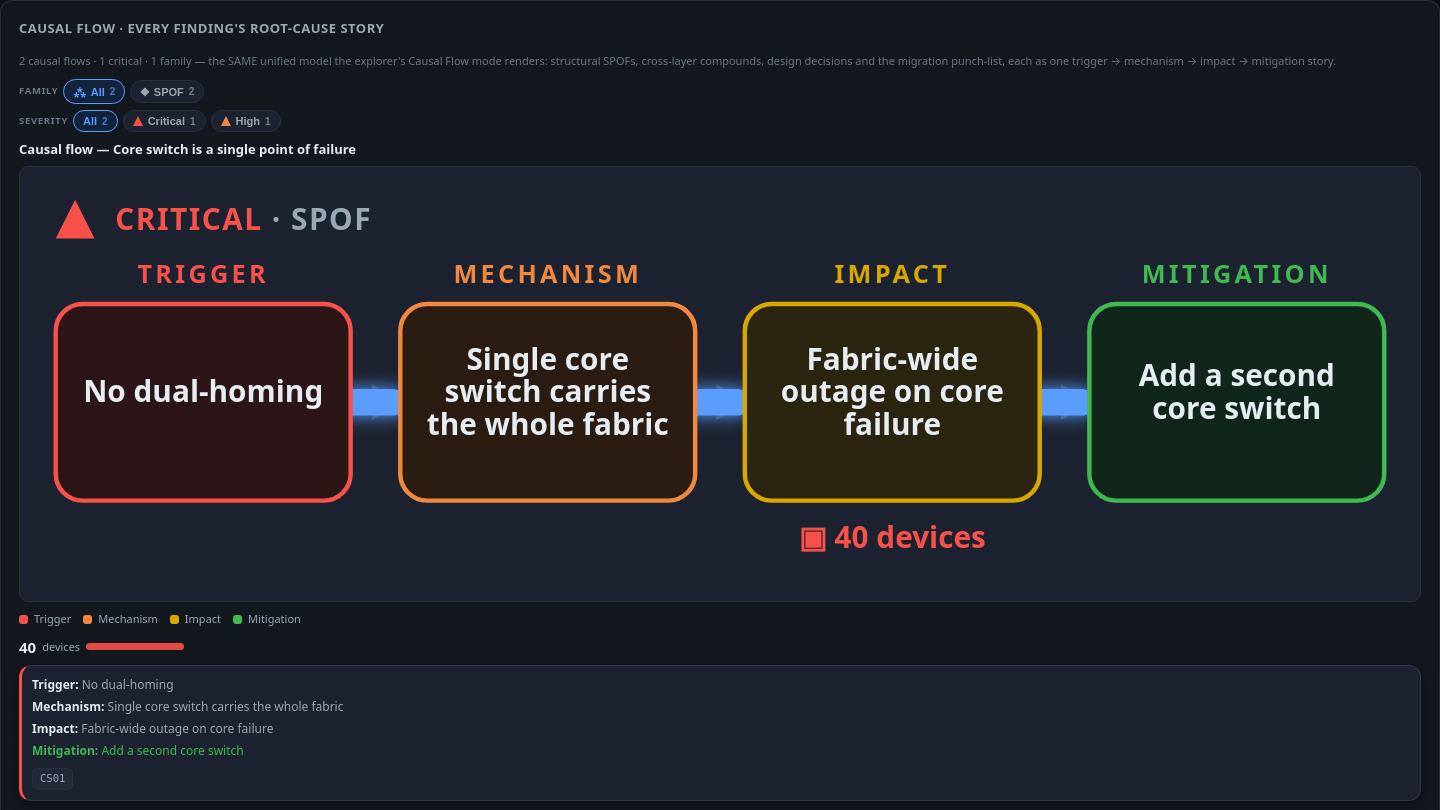
Test: CausalFlowPanel (render) › a severity filter click remounts the (keyed) card list and re-derives the selection
The image size is (1440, 810).
Expected: the text "Causal flow — Core switch is a single point of failure" is shown, [19, 140, 356, 158]
Click the button with class "czfchip" showing "High 1" at point(246, 121), box [210, 110, 280, 132]
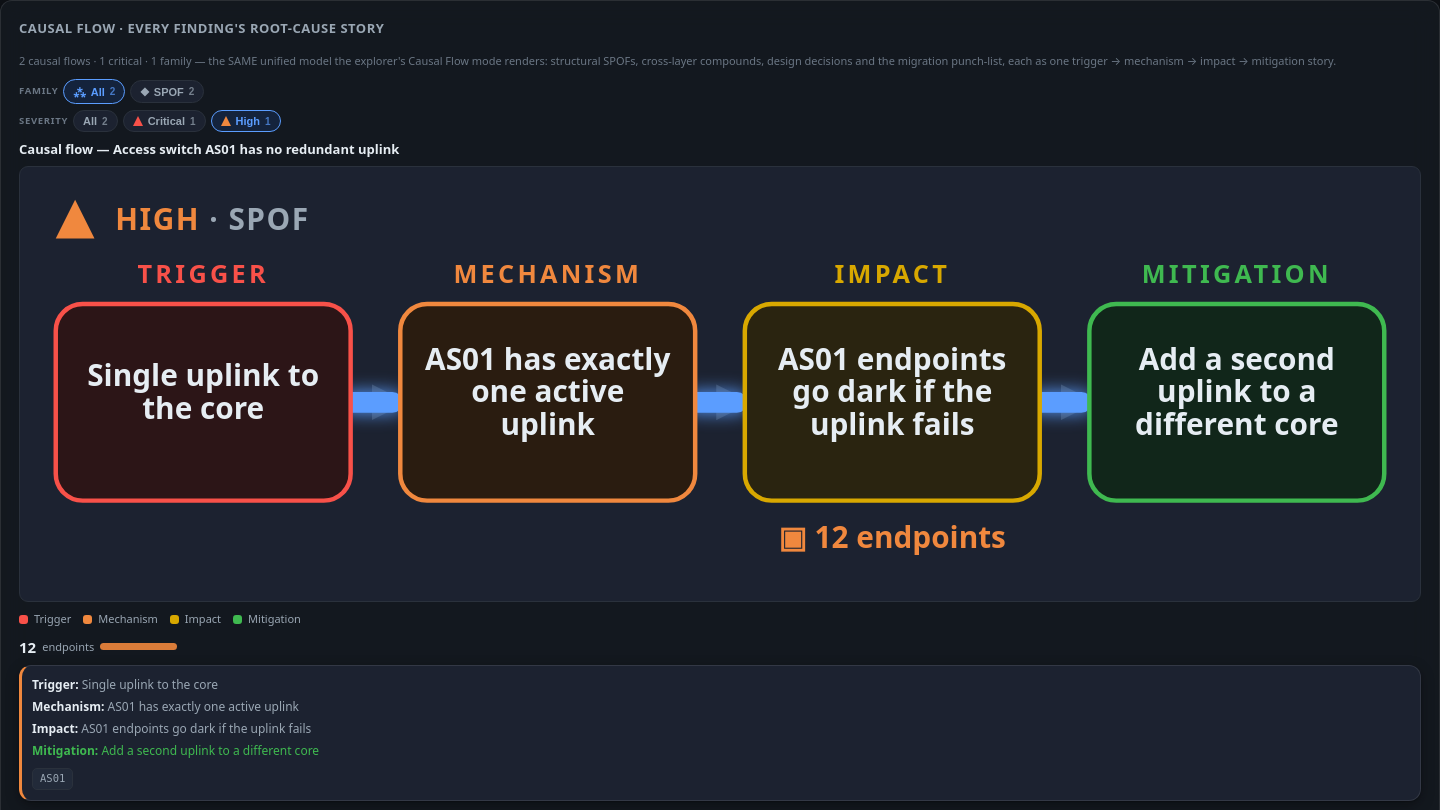
Result: the text "Causal flow — Access switch AS01 has no redundant uplink" is shown at [19, 140, 399, 158]
Result: the text "Core switch is a single point of failure" is gone
